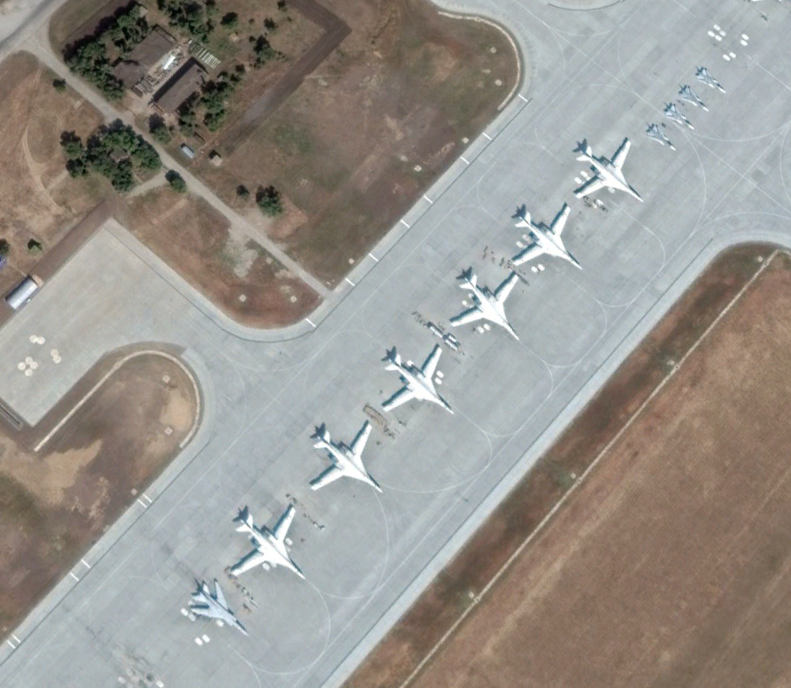A12: (183, 572, 249, 637)
A20: (691, 61, 730, 98), (659, 98, 697, 132), (675, 83, 715, 115), (638, 119, 678, 148)
A6: (227, 505, 311, 584), (568, 130, 647, 206), (503, 195, 582, 271), (445, 265, 524, 341), (379, 341, 458, 417), (306, 419, 385, 495)
